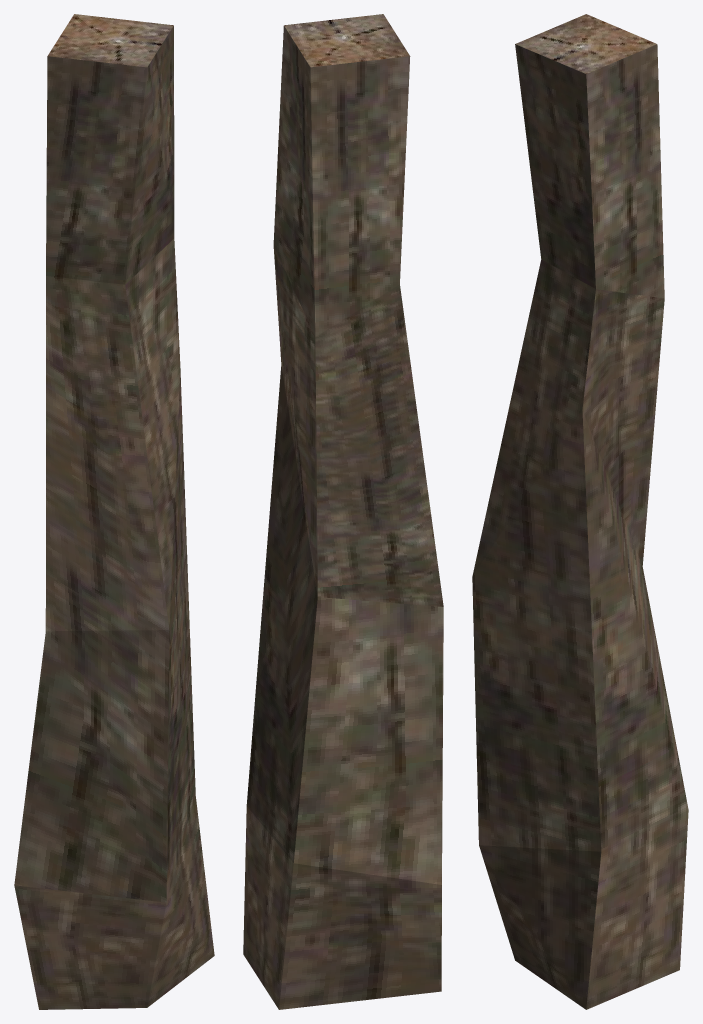
Rendered from lf_wooden_fence_post_c.glb.
3 views of the same model, side by side, from view 1: azimuth 30°, elevation 25°; view 2: azimuth 150°, elevation 25°; view 3: azimuth 270°, elevation 25° (orthographic). The views are drawn at different scales.
Visible parts, largest first — view 1: wooden_fence_pole_alt_2; view 2: wooden_fence_pole_alt_2; view 3: wooden_fence_pole_alt_2.
Boxes of the visible parts, <box> form: wooden_fence_pole_alt_2: <box>14,14,214,1009</box>; wooden_fence_pole_alt_2: <box>243,14,443,1009</box>; wooden_fence_pole_alt_2: <box>472,14,688,1009</box>.
Bounding box in the file's own units: 0.2664 × 1.2 × 0.2564.
1 material, 1 textured.
